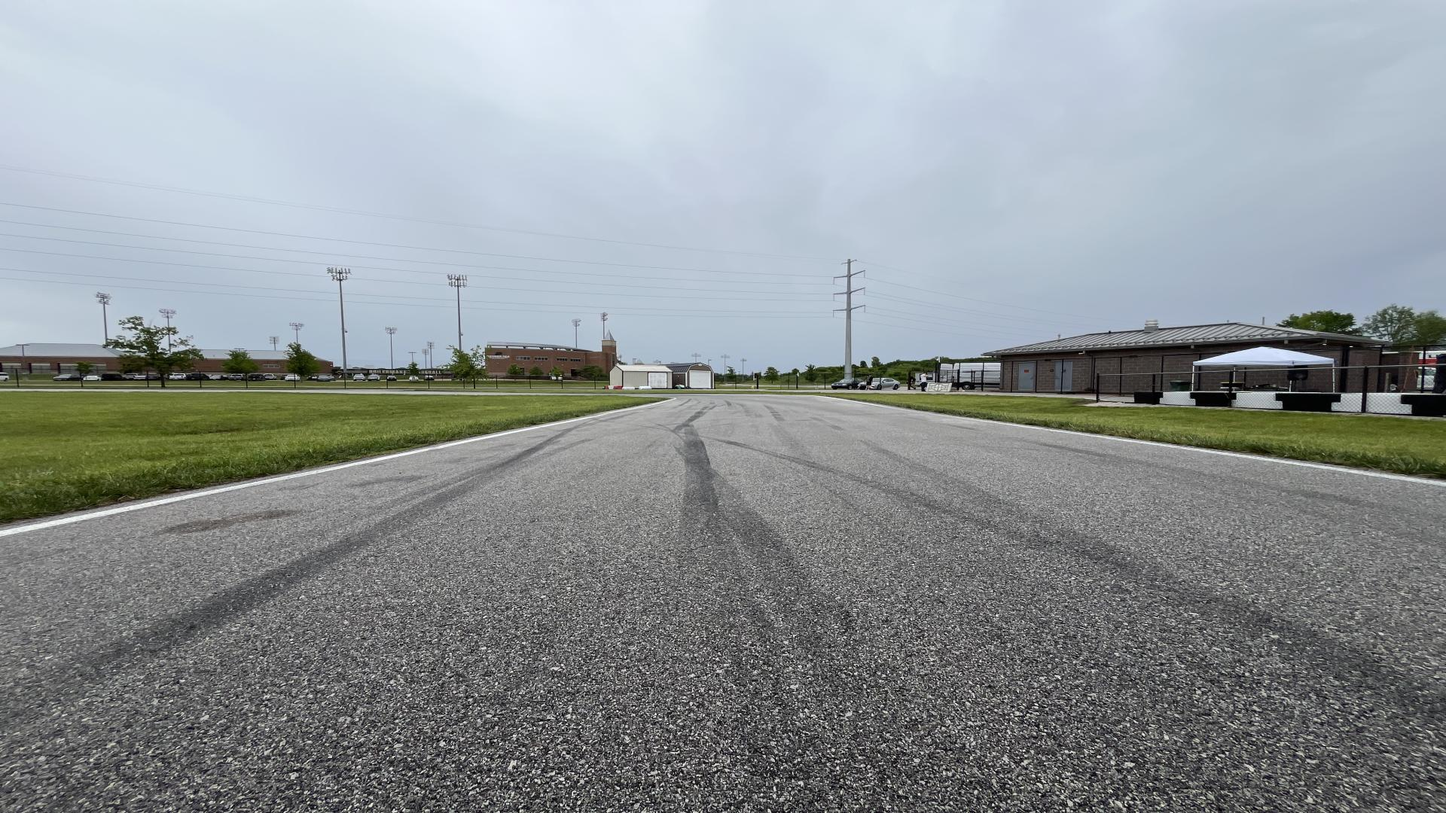white-line: (1, 398, 676, 537), (807, 395, 1445, 486)
